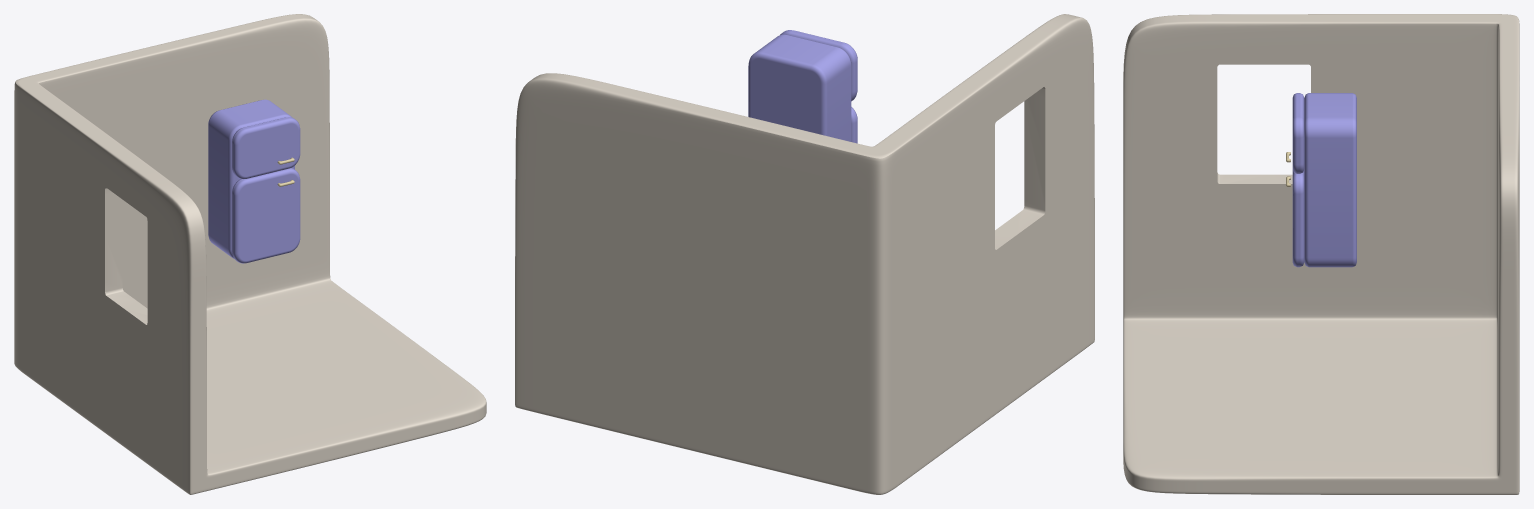
File: test-wall-ref.glb
3 renders of one model, left to right at view 1: azimuth 30°, elevation 25°; view 2: azimuth 150°, elevation 25°; view 3: azimuth 270°, elevation 25°, orthographic. The views are drawn at different scales.
Parts seen in each view (by area): view 1: Boolean, Rectangle 8, Rectangle 6, Rectangle 7; view 2: Boolean, Rectangle 6, Rectangle 7; view 3: Boolean, Rectangle 6, Rectangle 8, Rectangle 7.
Boxes of the visible parts, x1=… form: Boolean: x1=14, y1=14, x2=486, y2=494; Rectangle 8: x1=232, y1=168, x2=300, y2=263; Rectangle 6: x1=208, y1=99, x2=294, y2=258; Rectangle 7: x1=232, y1=117, x2=300, y2=179; Boolean: x1=515, y1=14, x2=1094, y2=494; Rectangle 6: x1=748, y1=34, x2=851, y2=141; Rectangle 7: x1=780, y1=30, x2=857, y2=101; Boolean: x1=1123, y1=14, x2=1519, y2=494; Rectangle 6: x1=1304, y1=93, x2=1356, y2=267; Rectangle 8: x1=1292, y1=170, x2=1304, y2=267; Rectangle 7: x1=1292, y1=93, x2=1304, y2=173.
Size of the model in its own units: 8.12 by 7.12 by 8.12.
